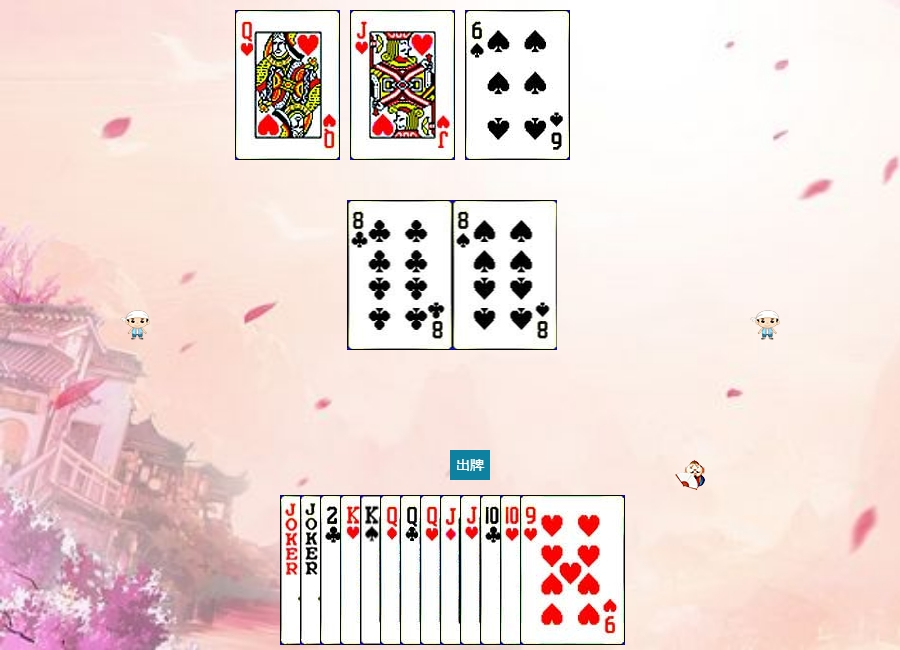10~2: (480, 495, 585, 645)
10~3: (500, 495, 605, 645)
11~1: (440, 495, 545, 645)
11~3: (350, 10, 455, 160), (460, 495, 565, 645)
12~1: (380, 495, 485, 645)
12~2: (400, 495, 505, 645)
12~3: (235, 10, 340, 160), (420, 495, 525, 645)
13~3: (340, 495, 445, 645)
13~4: (360, 495, 465, 645)
15~2: (320, 495, 425, 645)
17~3: (300, 495, 405, 645)
18~4: (280, 495, 385, 645)
6~4: (465, 10, 570, 160)
8~2: (348, 200, 453, 350)
8~4: (453, 200, 558, 350)
9~3: (520, 495, 625, 645)
